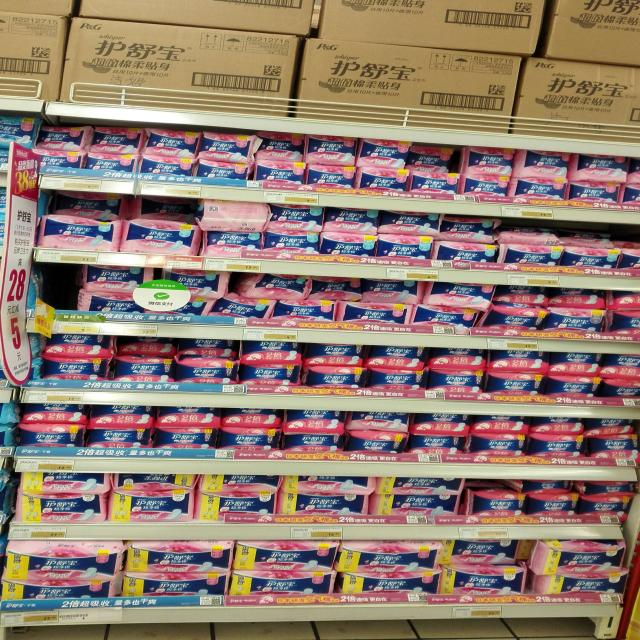empty: (32, 261, 76, 314)
